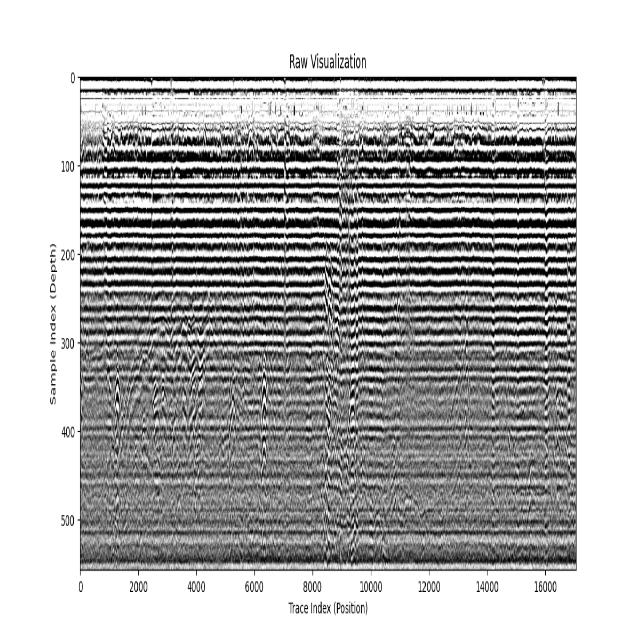anomaly: (106, 292, 244, 458), (334, 471, 434, 561)
